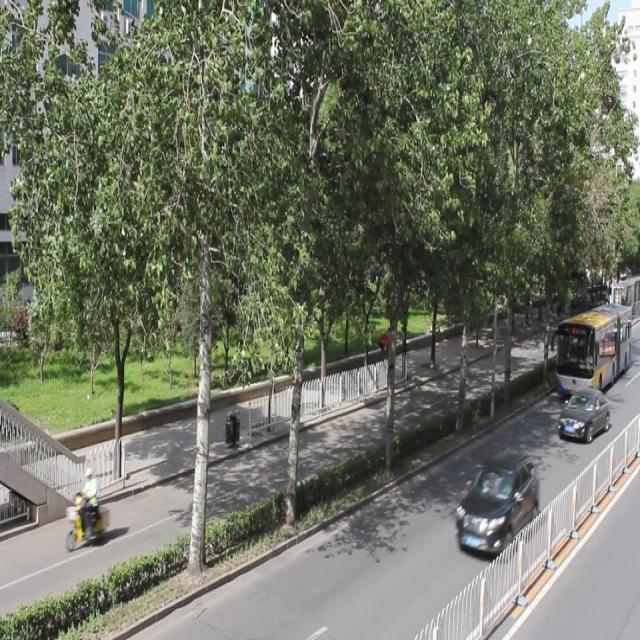car: (456, 446, 538, 558), (556, 385, 610, 442)
van: (556, 301, 630, 392)
